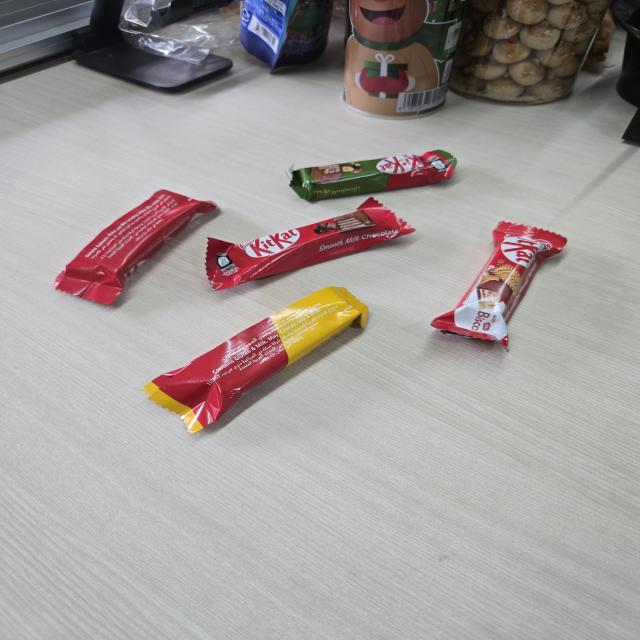chocolate-bar: (141, 280, 374, 439), (50, 185, 222, 312), (204, 195, 416, 298), (432, 218, 571, 356), (285, 149, 468, 204)
